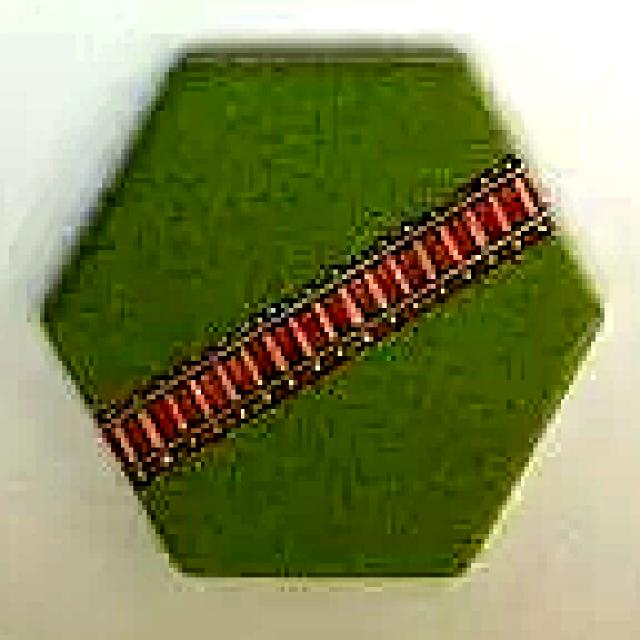3_0: (39, 44, 605, 580)
